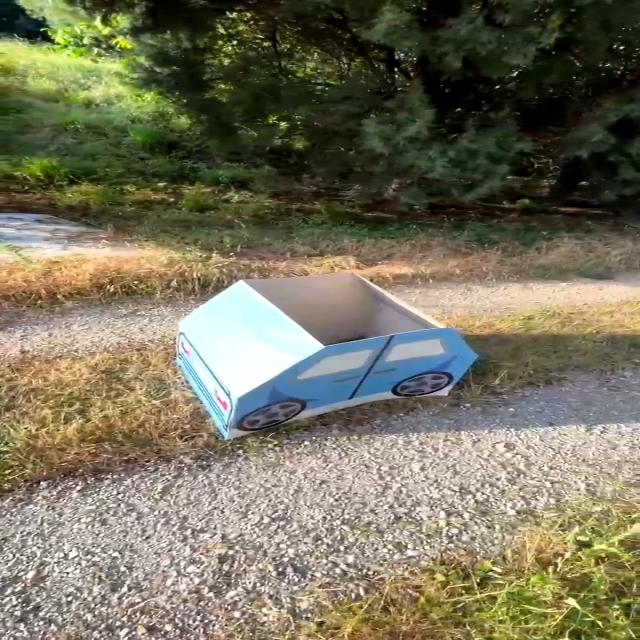blue_car: (92, 247, 505, 471)
